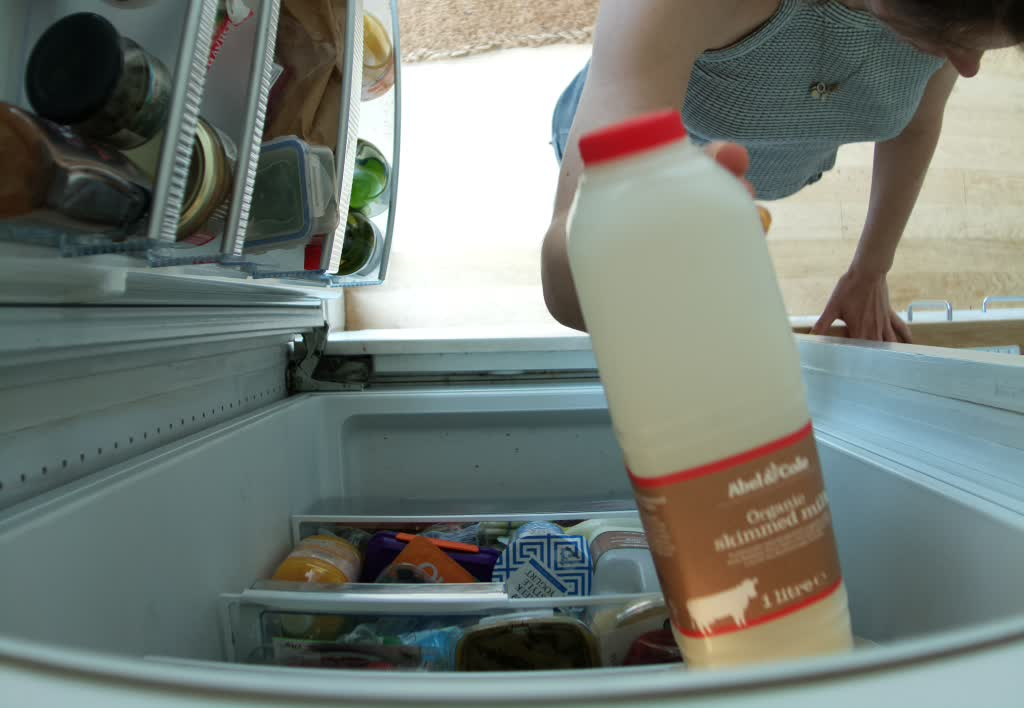milk: (563, 108, 863, 666)
